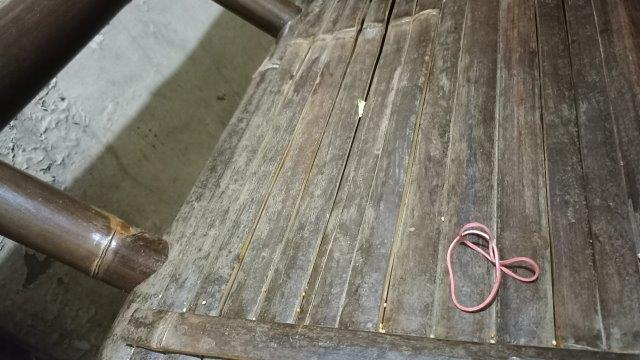karet: (447, 222, 539, 312)
